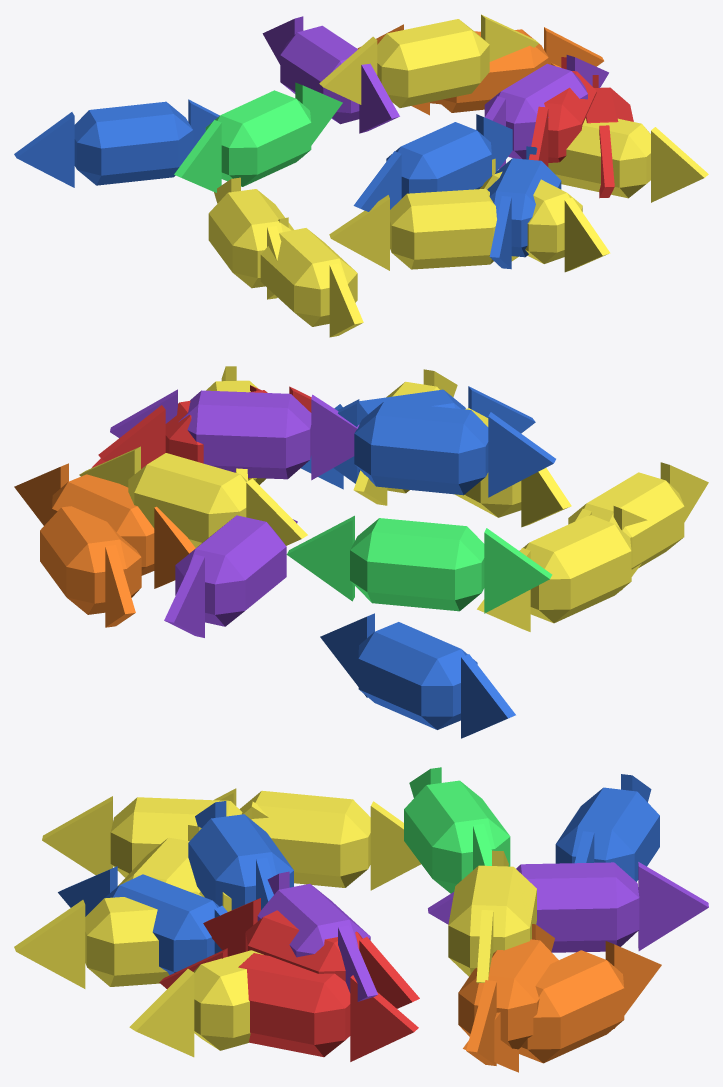
The model's file is CandyPile.fbx.
The picture shows the model from 3 angles, top to bottom: view 1: azimuth 30°, elevation 25°; view 2: azimuth 150°, elevation 25°; view 3: azimuth 270°, elevation 25°; orthographic projection. The views are drawn at different scales.
Visible parts, largest first — view 1: CandyPile; view 2: CandyPile; view 3: CandyPile.
Part boxes in pixels (box(x1,y1,x2,y2)): CandyPile: box(14, 14, 708, 337); CandyPile: box(14, 366, 708, 738); CandyPile: box(14, 767, 708, 1072).
Bounding box in the file's own units: 2.98 × 0.7059 × 2.97.
1 material, 1 textured.
